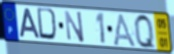1: (94, 12, 107, 45)
A: (111, 13, 138, 49), (19, 7, 42, 40)
D: (36, 7, 60, 43)
N: (63, 10, 86, 45)
Q: (133, 13, 158, 52)
